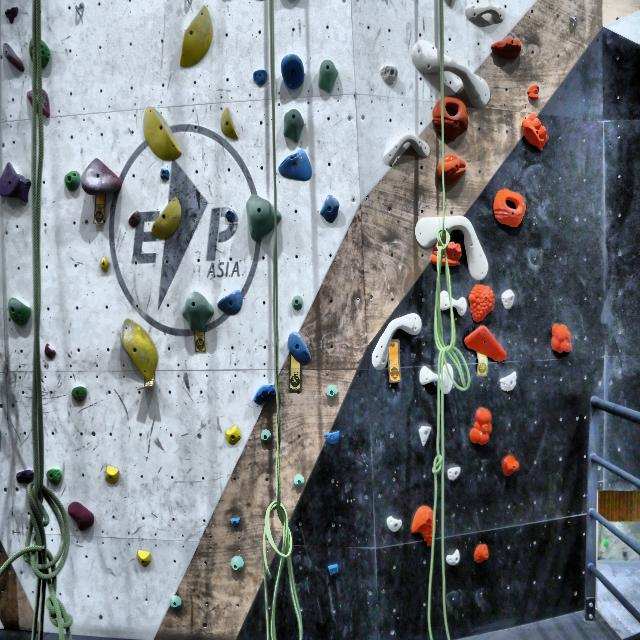Hold: (413, 38, 495, 106), (413, 215, 490, 283), (367, 311, 426, 370), (118, 318, 159, 389), (463, 318, 511, 368), (179, 8, 213, 77), (382, 128, 433, 172), (145, 107, 184, 161), (430, 93, 471, 140), (416, 358, 456, 404), (246, 193, 282, 242), (489, 186, 528, 229), (82, 157, 123, 197), (153, 194, 185, 242), (0, 163, 32, 207), (183, 291, 214, 336), (519, 114, 554, 150), (436, 151, 467, 190), (411, 504, 439, 546), (466, 0, 507, 28), (278, 150, 312, 183), (279, 53, 307, 92), (466, 407, 492, 448), (466, 286, 499, 318), (286, 332, 312, 370), (548, 322, 576, 357), (4, 293, 31, 328), (488, 35, 524, 61), (69, 496, 96, 530), (436, 286, 464, 318), (24, 89, 52, 118), (1, 39, 24, 73), (319, 191, 341, 225), (250, 384, 284, 405), (281, 109, 303, 141), (318, 58, 338, 93), (219, 288, 243, 316), (432, 245, 461, 268), (494, 372, 520, 394), (470, 540, 494, 563), (498, 454, 524, 474), (221, 108, 236, 140), (28, 39, 47, 64), (415, 421, 431, 448), (382, 64, 398, 90), (136, 547, 154, 570), (441, 547, 462, 566), (323, 429, 344, 447), (45, 464, 64, 483), (102, 464, 120, 484), (64, 169, 80, 191), (43, 342, 60, 362), (14, 466, 33, 483), (526, 78, 540, 101), (224, 428, 240, 448), (126, 210, 140, 232), (252, 67, 268, 86), (291, 474, 307, 493), (289, 294, 304, 314), (383, 517, 404, 531), (72, 387, 88, 405), (167, 594, 183, 612), (227, 556, 245, 572), (258, 428, 272, 447), (502, 288, 514, 310), (448, 466, 462, 482), (324, 383, 338, 398), (327, 556, 339, 572), (229, 518, 242, 531), (161, 167, 171, 182), (100, 262, 111, 273)
